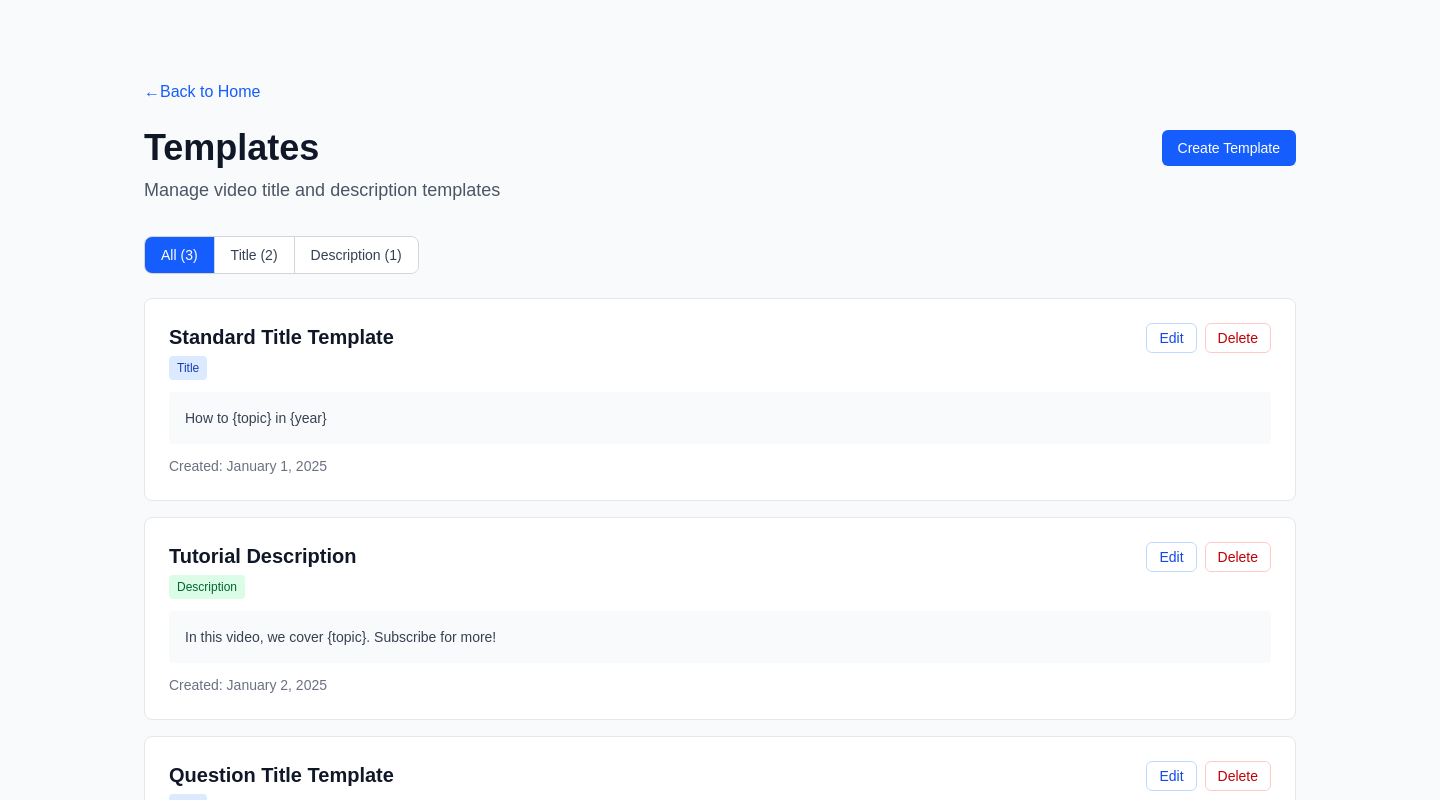
Test case: TemplatesPage › Template Filtering › should filter to show only Title templates
The width and height of the screenshot is (1440, 800).
Expected: the heading "Standard Title Template" is shown, x1=169 y1=326 x2=394 y2=348
Click the button "Title (2)".
click(254, 255)  # box x1=214 y1=237 x2=294 y2=273
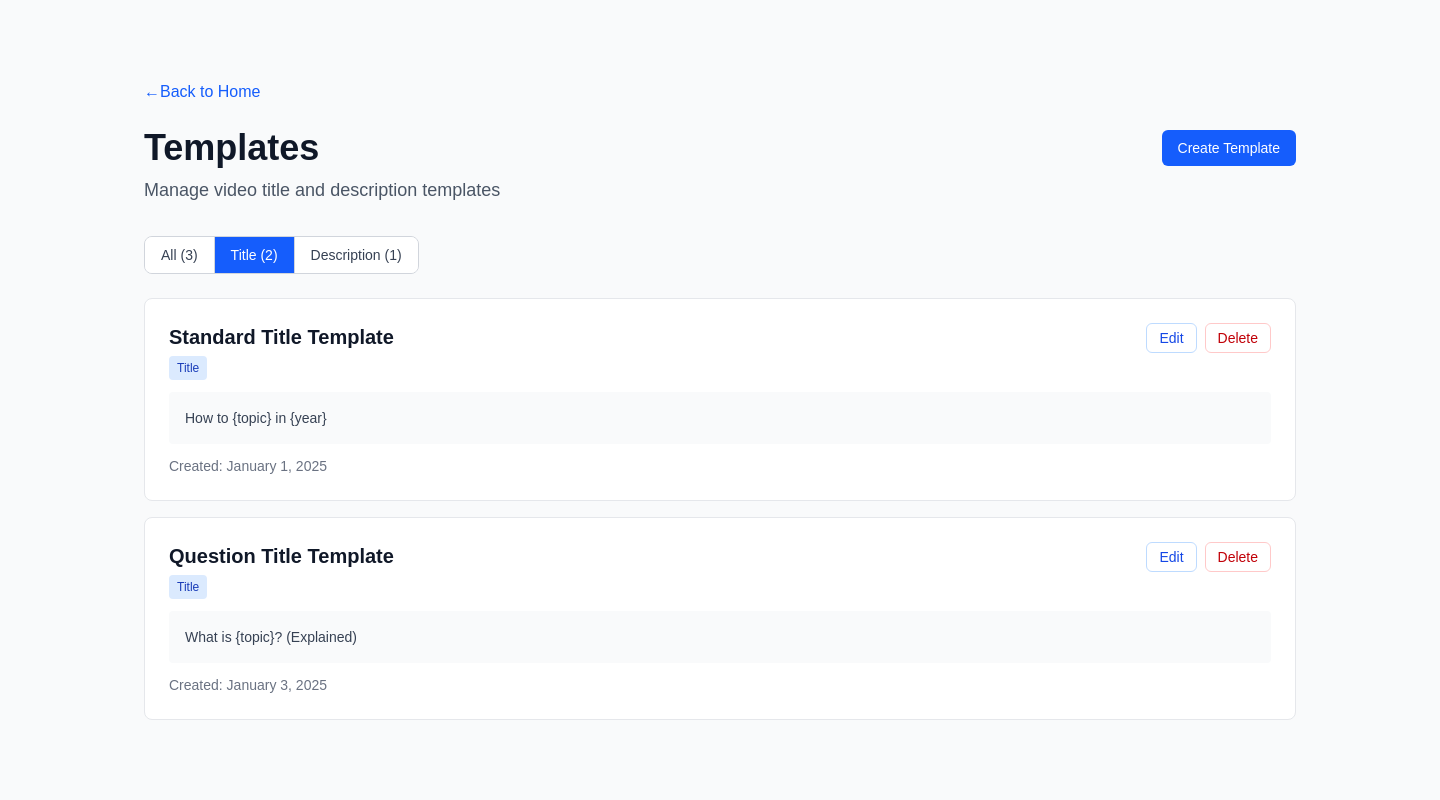
Expected: the heading "Standard Title Template" is shown, x1=169 y1=326 x2=394 y2=348
Expected: the heading "Tutorial Description" is gone
